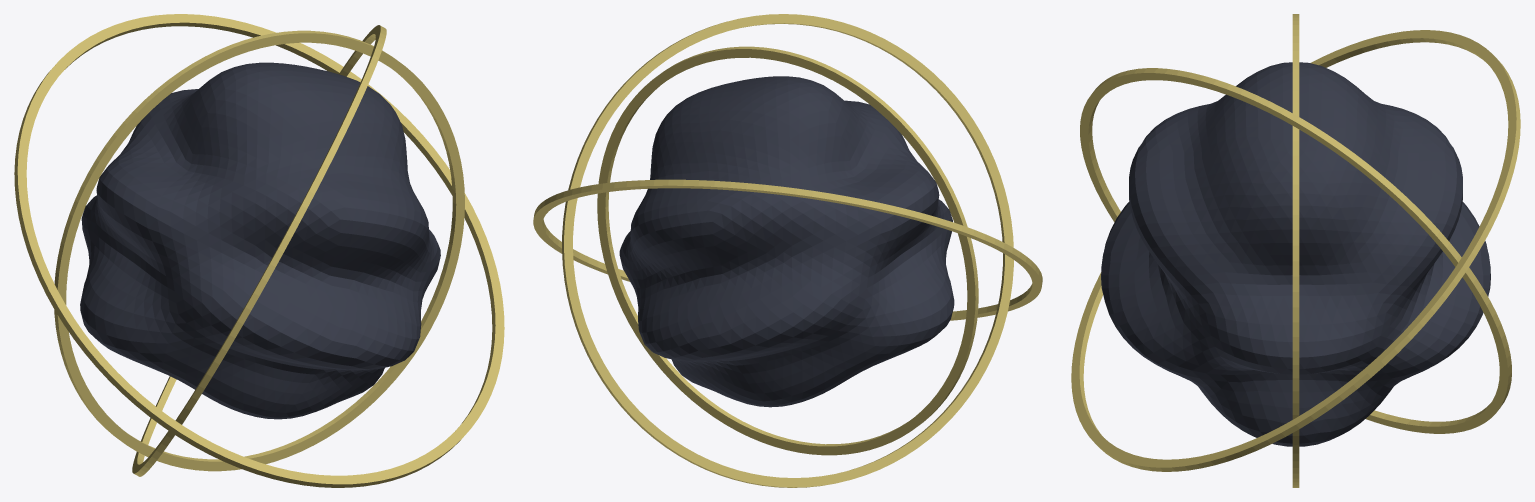
Rendered from gpu-artifact.glb.
3 renders of one model, left to right at view 1: azimuth 30°, elevation 25°; view 2: azimuth 150°, elevation 25°; view 3: azimuth 270°, elevation 25°, orthographic. The views are drawn at different scales.
Parts seen in each view (by area): view 1: azoth-local-agent_obsidian_core, azoth-local-agent_orbital_ring_2, azoth-local-agent_orbital_ring_0, azoth-local-agent_orbital_ring_1; view 2: azoth-local-agent_obsidian_core, azoth-local-agent_orbital_ring_1, azoth-local-agent_orbital_ring_0, azoth-local-agent_orbital_ring_2; view 3: azoth-local-agent_obsidian_core, azoth-local-agent_orbital_ring_2, azoth-local-agent_orbital_ring_1, azoth-local-agent_orbital_ring_0.
Boxes of the visible parts, x1=… form: azoth-local-agent_obsidian_core: x1=80, y1=62, x2=440, y2=419; azoth-local-agent_orbital_ring_2: x1=14, y1=14, x2=504, y2=487; azoth-local-agent_orbital_ring_0: x1=54, y1=30, x2=464, y2=471; azoth-local-agent_orbital_ring_1: x1=132, y1=25, x2=386, y2=476; azoth-local-agent_obsidian_core: x1=619, y1=76, x2=954, y2=407; azoth-local-agent_orbital_ring_1: x1=562, y1=14, x2=1013, y2=487; azoth-local-agent_orbital_ring_0: x1=597, y1=46, x2=978, y2=455; azoth-local-agent_orbital_ring_2: x1=533, y1=179, x2=1042, y2=320; azoth-local-agent_obsidian_core: x1=1101, y1=62, x2=1490, y2=446; azoth-local-agent_orbital_ring_2: x1=1071, y1=30, x2=1520, y2=471; azoth-local-agent_orbital_ring_1: x1=1080, y1=68, x2=1511, y2=433; azoth-local-agent_orbital_ring_0: x1=1292, y1=14, x2=1299, y2=487.
Size of the model in its own units: 3.18 by 2.76 by 2.62.
